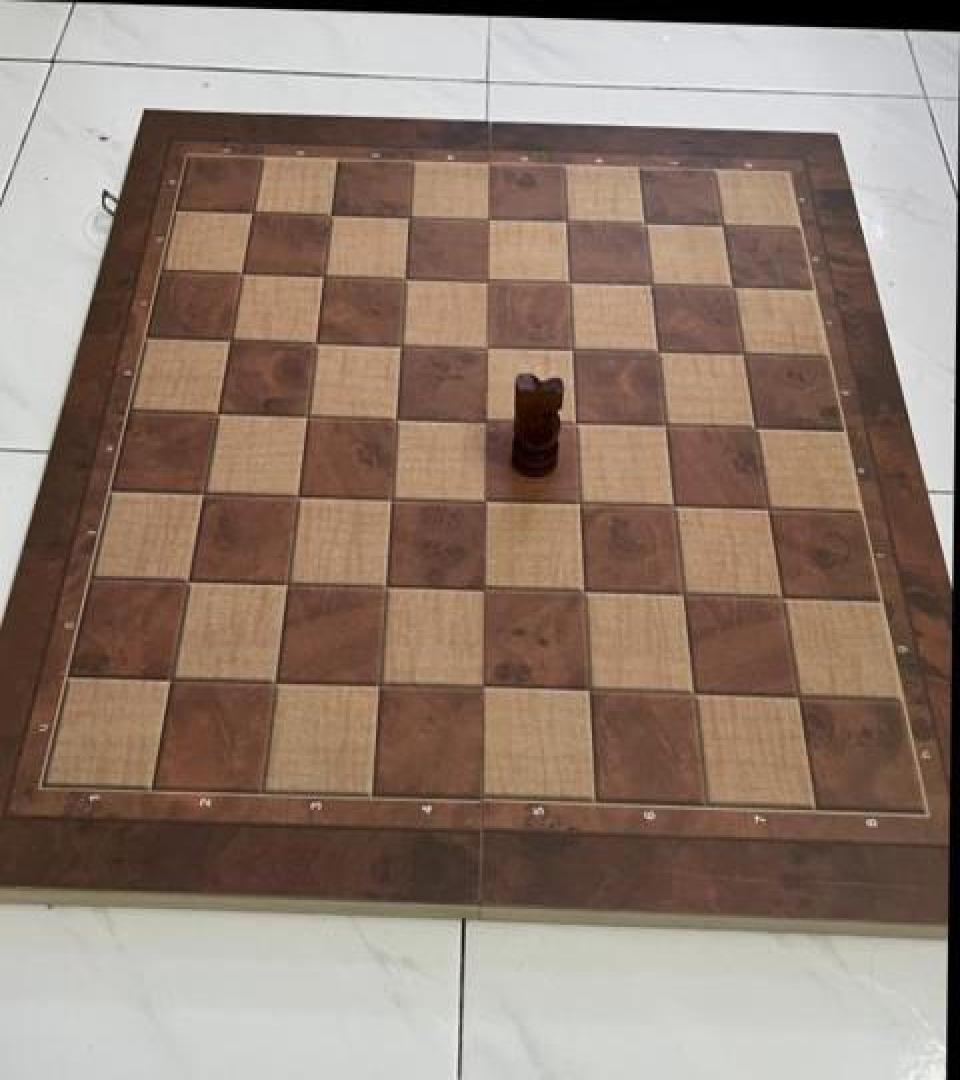xcorner: (547, 201, 583, 242), (468, 199, 504, 240), (632, 264, 668, 305), (550, 262, 586, 303), (223, 254, 259, 295), (724, 334, 760, 375), (468, 327, 504, 368), (382, 325, 418, 366), (736, 407, 772, 448), (378, 398, 414, 439), (749, 488, 785, 529), (467, 480, 503, 521), (373, 478, 409, 519), (763, 577, 799, 618), (466, 569, 502, 610), (171, 561, 207, 602), (779, 676, 815, 717), (466, 667, 502, 708), (154, 659, 190, 700), (704, 205, 740, 245), (625, 203, 661, 243), (390, 197, 426, 237), (312, 196, 348, 236), (234, 194, 270, 234), (714, 267, 750, 307), (468, 261, 504, 301), (387, 259, 423, 299), (305, 257, 341, 297), (639, 332, 675, 372), (553, 330, 589, 370), (297, 323, 333, 363), (212, 321, 248, 361), (646, 405, 682, 445), (557, 403, 593, 443), (467, 401, 503, 441), (289, 396, 325, 436), (200, 394, 236, 434), (655, 486, 691, 526), (561, 483, 597, 523), (280, 476, 316, 516), (186, 474, 222, 514), (664, 575, 700, 615), (565, 572, 601, 612), (368, 567, 404, 607), (269, 564, 305, 604), (674, 673, 710, 713), (570, 671, 606, 711), (362, 665, 398, 705), (258, 662, 294, 702)
